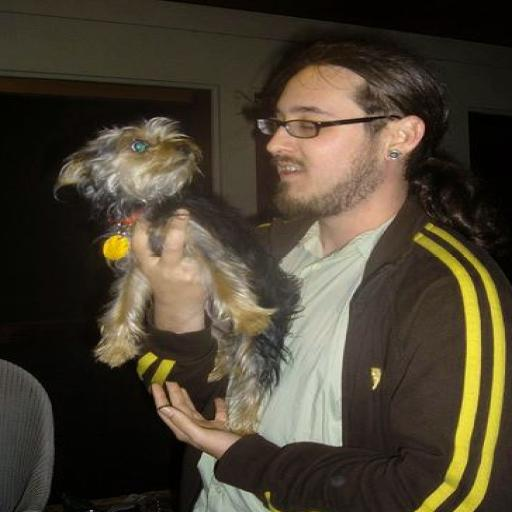dog_face: (52, 121, 214, 212)
